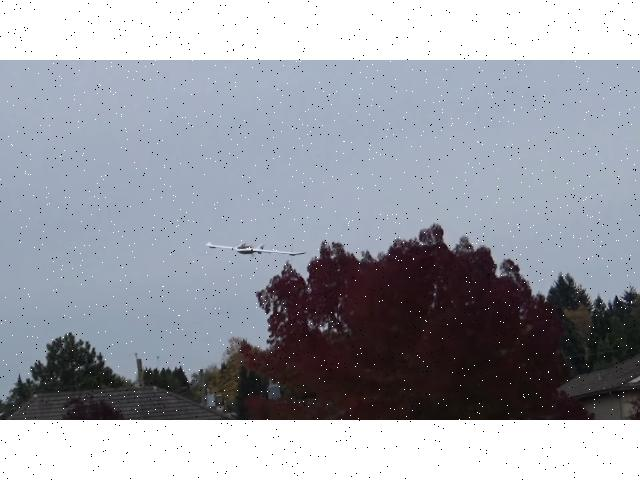Anti-Drone: (206, 243, 306, 257)
